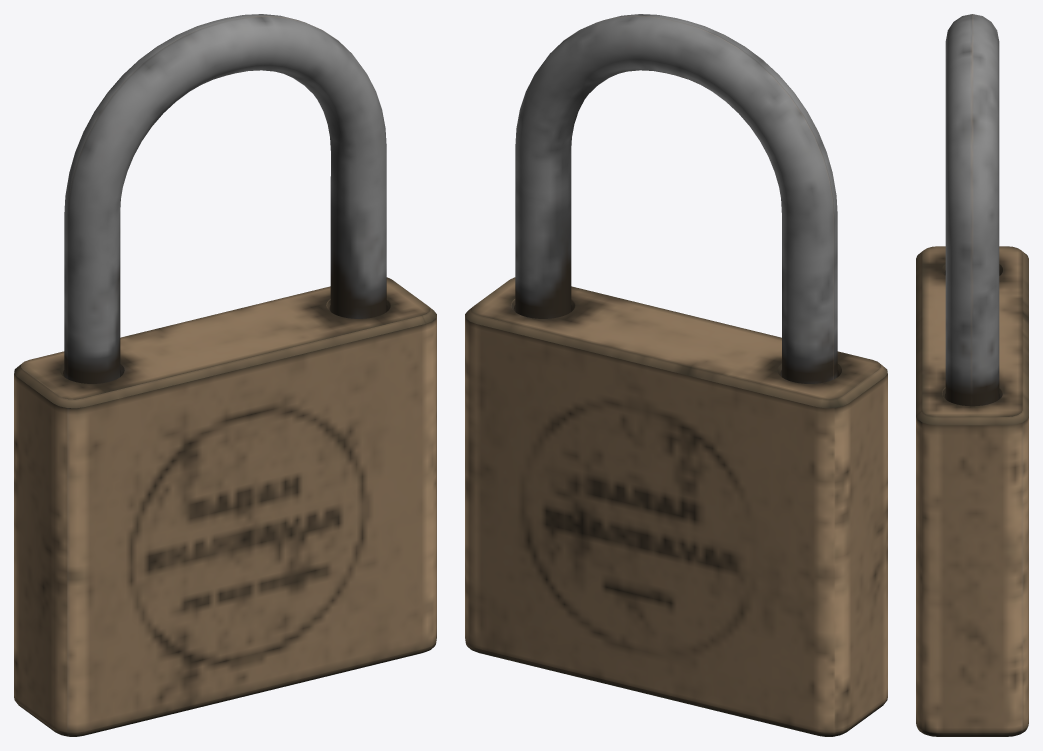
Rendered from lock_and_key_compressed_2.glb.
3 views of the same model, side by side, from view 1: azimuth 30°, elevation 25°; view 2: azimuth 150°, elevation 25°; view 3: azimuth 270°, elevation 25° (orthographic). The views are drawn at different scales.
Parts seen in each view (by area): view 1: 01__0; view 2: 01__0; view 3: 01__0.
Part boxes in pixels (left/top/right/bottom): 01__0: left=14, top=14, right=436, bottom=736; 01__0: left=465, top=14, right=887, bottom=736; 01__0: left=916, top=14, right=1028, bottom=736.
Size of the model in its own units: 0.146 by 0.2394 by 0.0395.
Materials: 1 (1 with a texture image).
